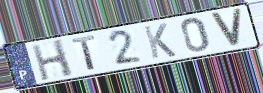0: (179, 16, 213, 54)
2: (108, 28, 144, 69)
H: (30, 37, 76, 82)
K: (141, 22, 178, 61)
T: (70, 34, 98, 73)
V: (208, 7, 244, 47)
